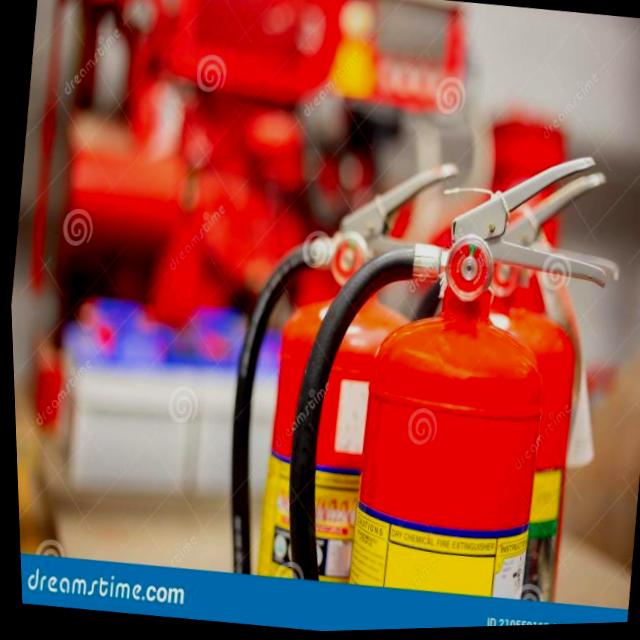FireExtinguisher: (260, 121, 626, 617), (197, 136, 484, 599)
